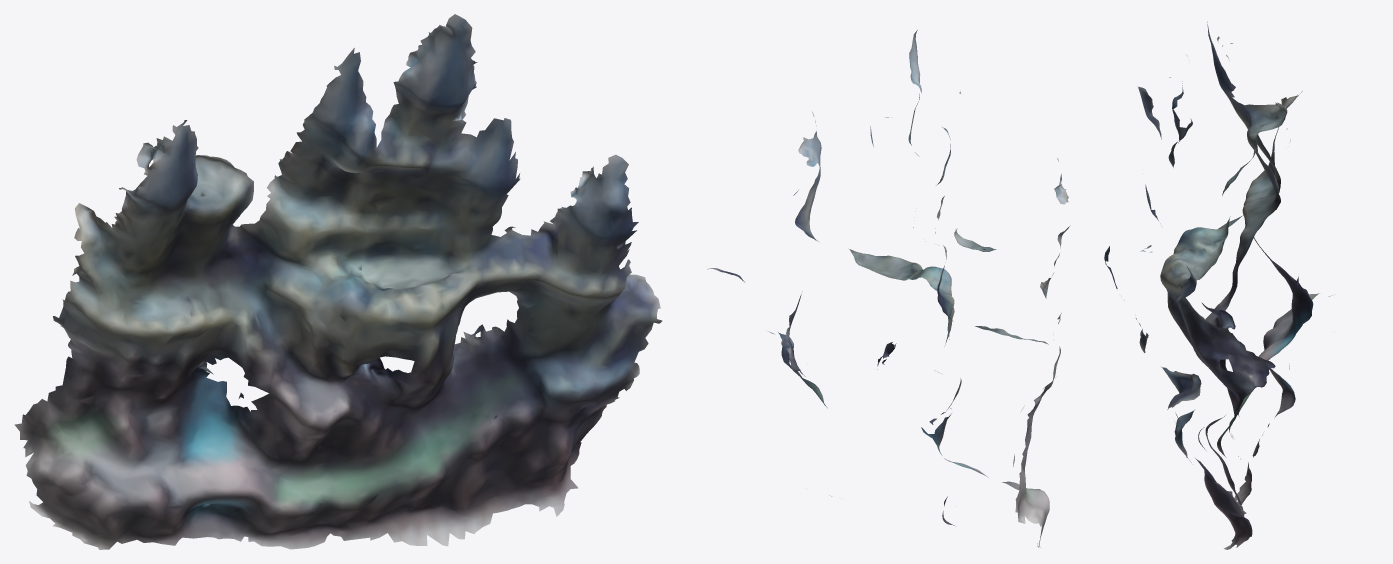
The model's file is castelluccio.glb.
3 views of the same model, side by side, from view 1: azimuth 30°, elevation 25°; view 2: azimuth 150°, elevation 25°; view 3: azimuth 270°, elevation 25° (orthographic). The views are drawn at different scales.
Parts seen in each view (by area): view 1: defaultobject; view 2: defaultobject; view 3: defaultobject.
Boxes of the visible parts, bbox=[...] form: defaultobject: bbox=[14, 14, 662, 549]; defaultobject: bbox=[707, 30, 1070, 547]; defaultobject: bbox=[1104, 21, 1331, 549].
Bounding box in the file's own units: 5.53 × 5.91 × 3.21.
